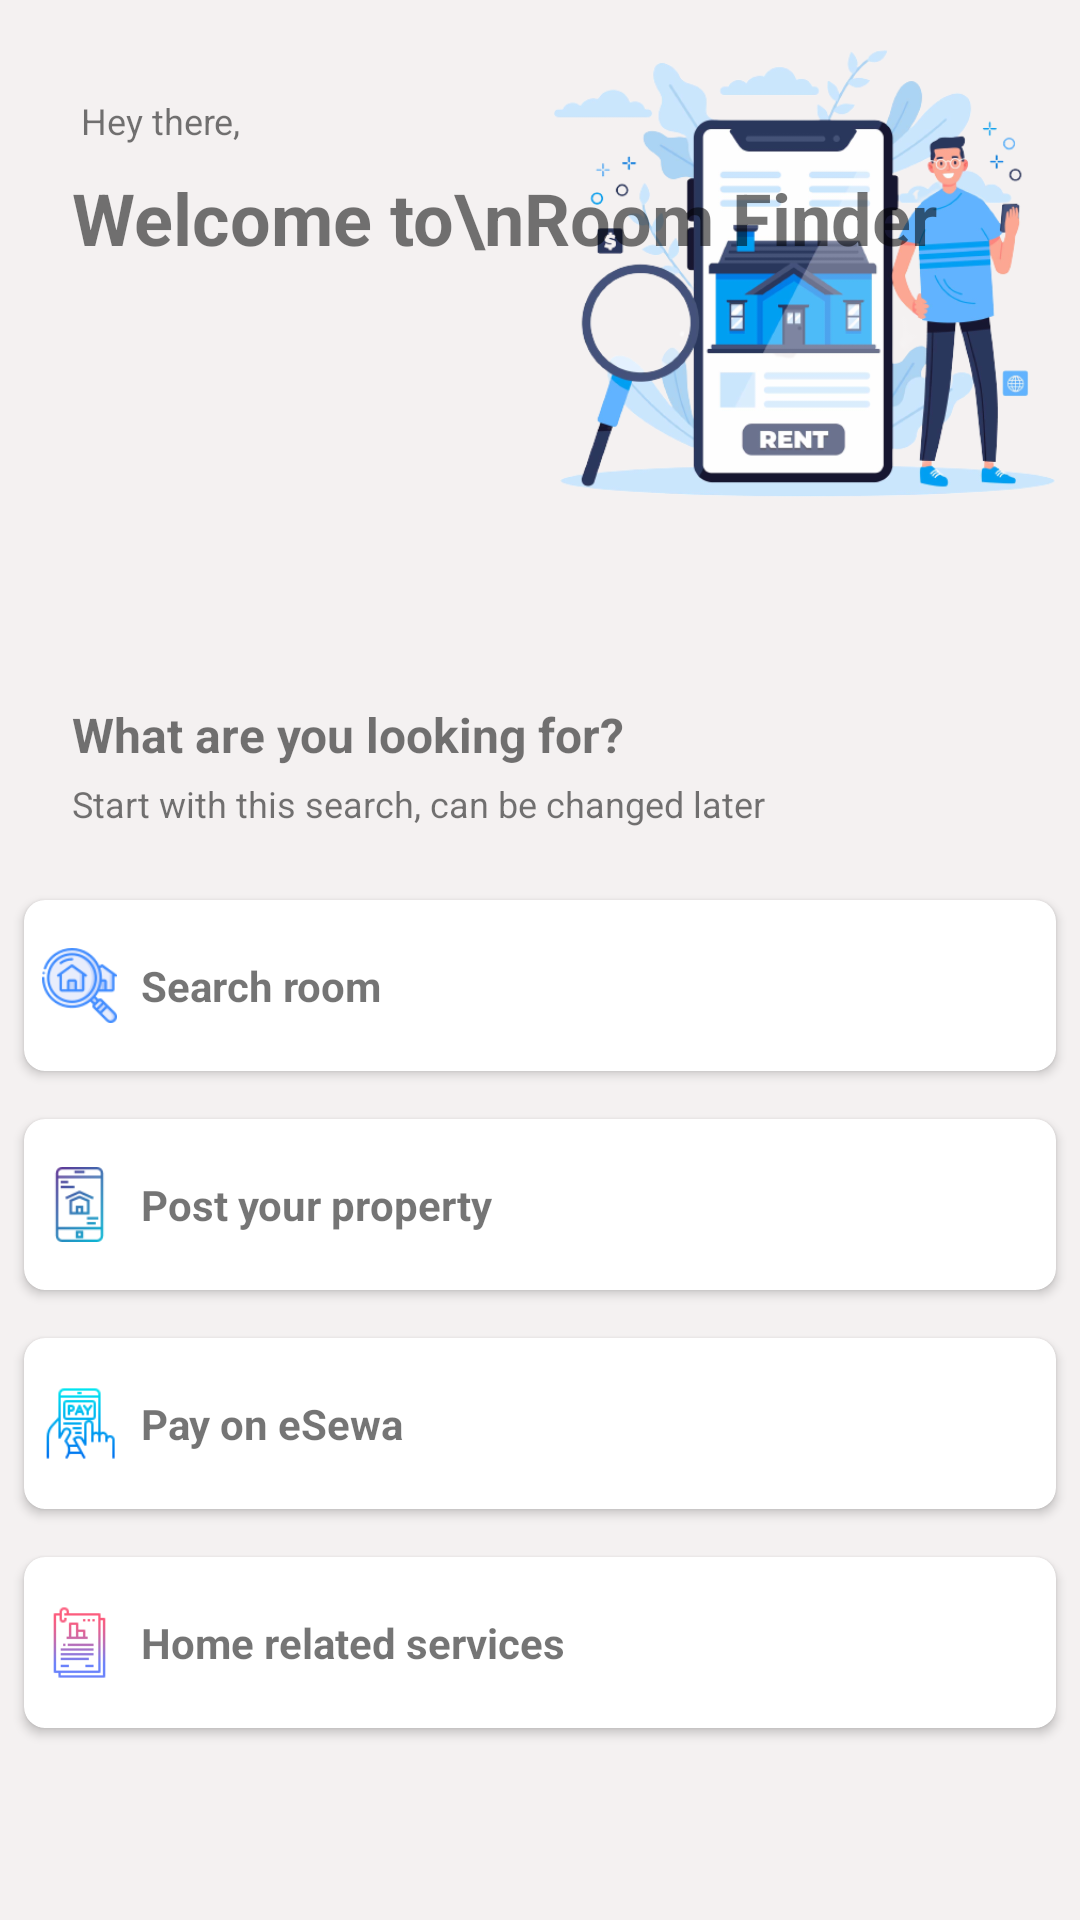

Icons on this 1080 x 1920 Android screen, each with its box as (x1, y1, x2, y2):
house: (42, 948, 117, 1023)
